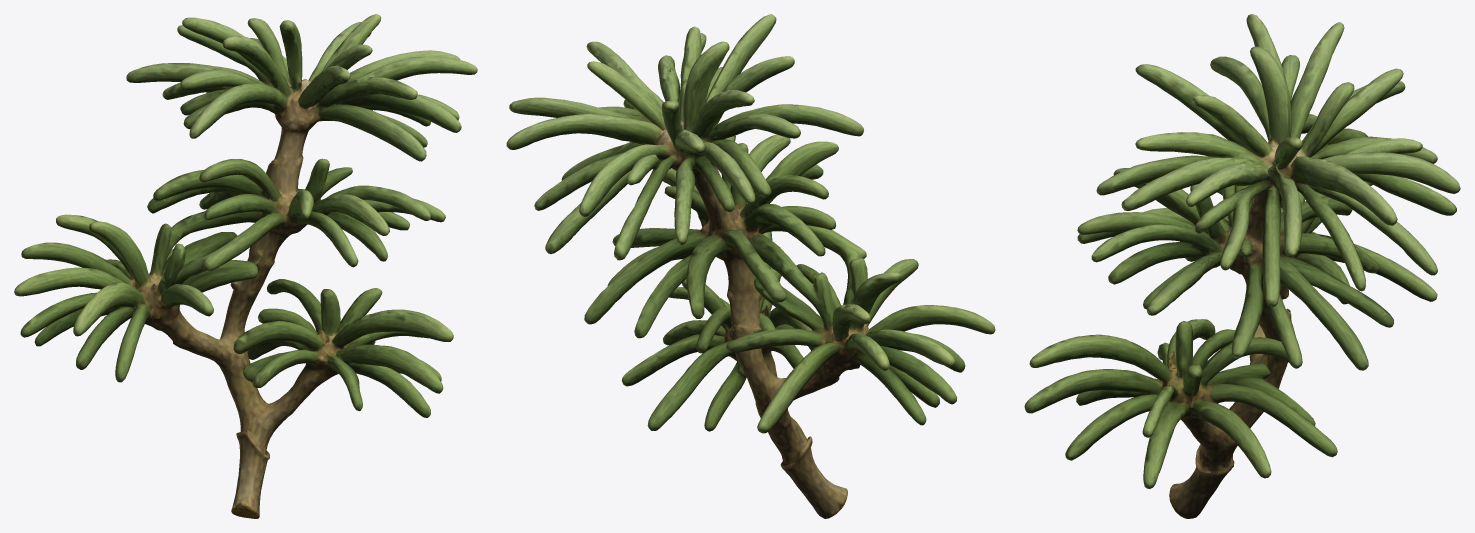
The picture shows the model from 3 angles, left to right: view 1: azimuth 30°, elevation 25°; view 2: azimuth 150°, elevation 25°; view 3: azimuth 270°, elevation 25°; orthographic projection. The views are drawn at different scales.
Visible parts, largest first — view 1: geometry_0; view 2: geometry_0; view 3: geometry_0.
Part boxes in pixels (bbox=[...]): geometry_0: bbox=[14, 14, 477, 518]; geometry_0: bbox=[506, 14, 995, 518]; geometry_0: bbox=[1024, 14, 1460, 518].
Size of the model in its own units: 0.2785 by 0.28 by 0.2186.
1 material, 1 textured.
